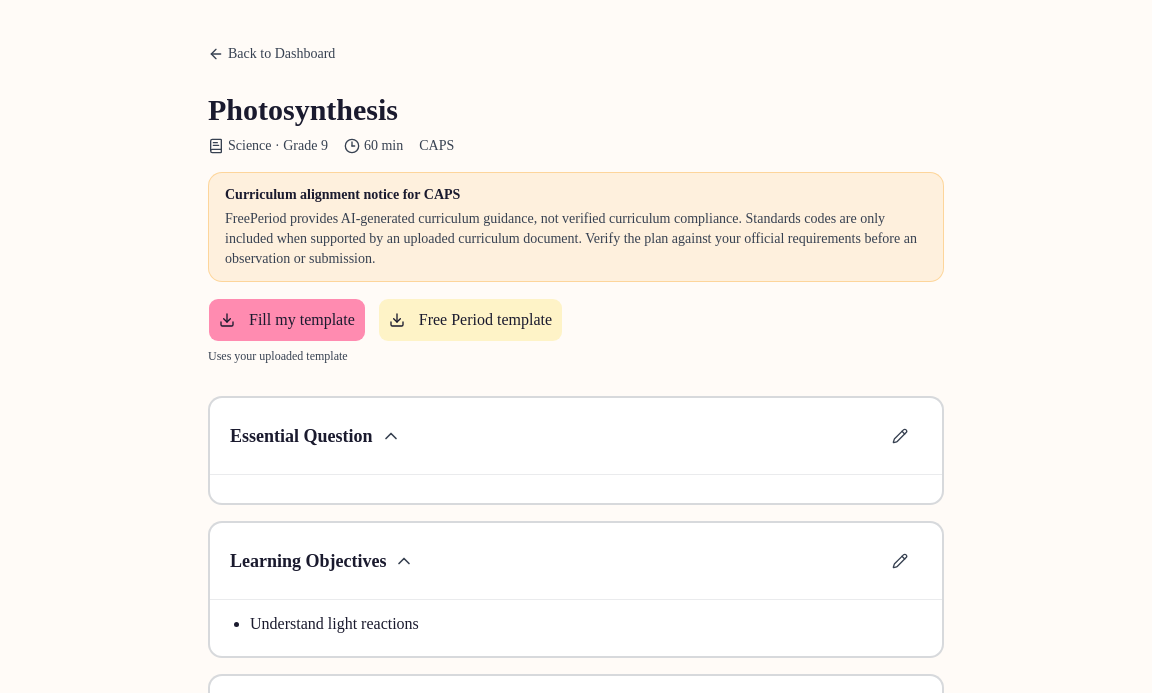
LessonView › opens has-template dialog when lesson has a fillable template
Click the button "Fill my template": (287,320) [208,298,366,342]
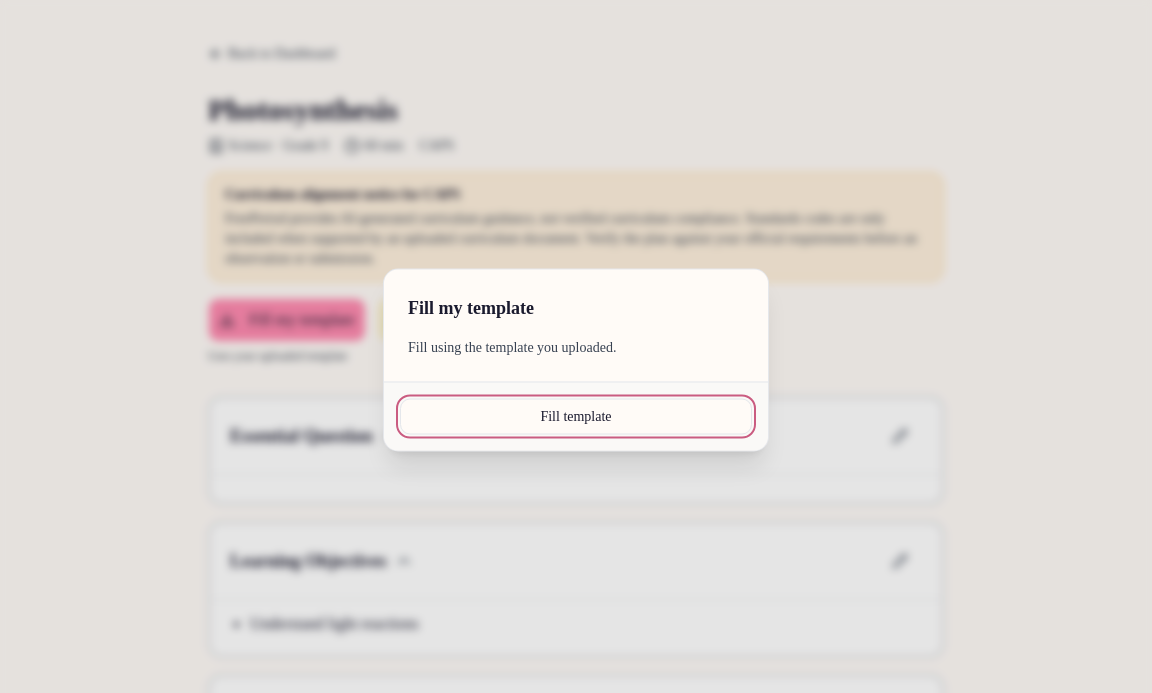
Expected: the text "Fill using the template you uploaded." is shown, [408,340,616,354]
Expected: the button "Fill template" is shown, [400,398,752,434]
